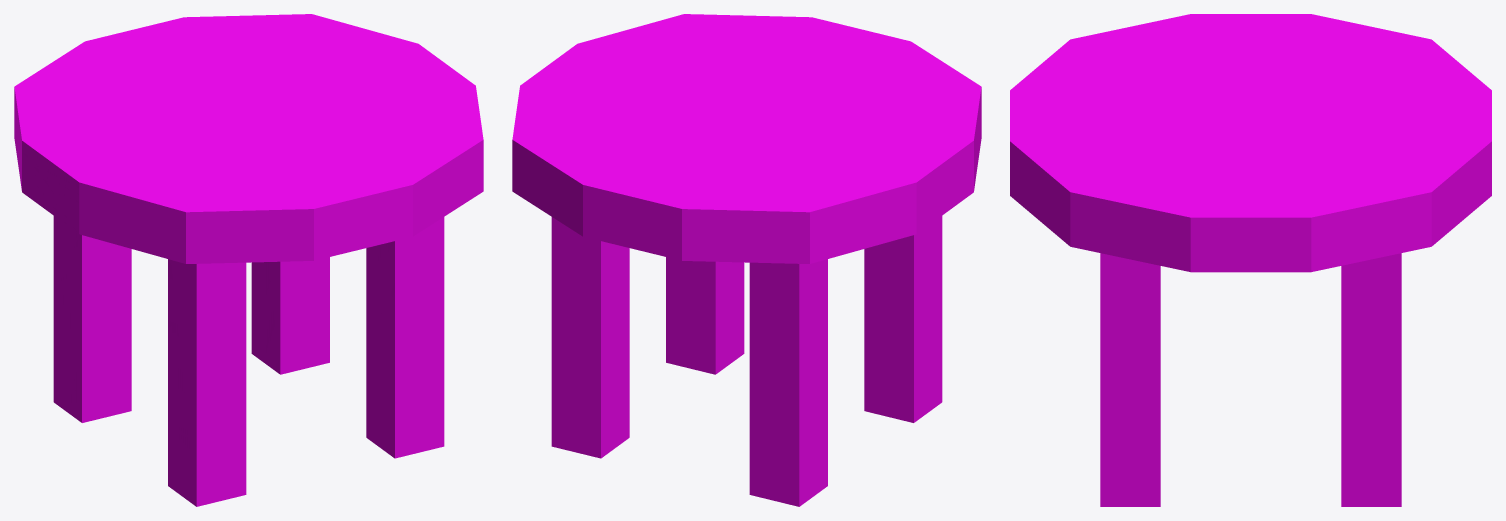
File: roundtable.obj
The picture shows the model from 3 angles, left to right: view 1: azimuth 30°, elevation 25°; view 2: azimuth 150°, elevation 25°; view 3: azimuth 270°, elevation 25°; orthographic projection. The views are drawn at different scales.
Parts seen in each view (by area): view 1: roundtable_back; view 2: roundtable_back; view 3: roundtable_back.
Part boxes in pixels (x1,y1,x2,y2): roundtable_back: (14,14,483,506); roundtable_back: (512,14,981,506); roundtable_back: (1010,14,1491,506).
Size of the model in its own units: 1.28 by 0.96 by 1.28.
